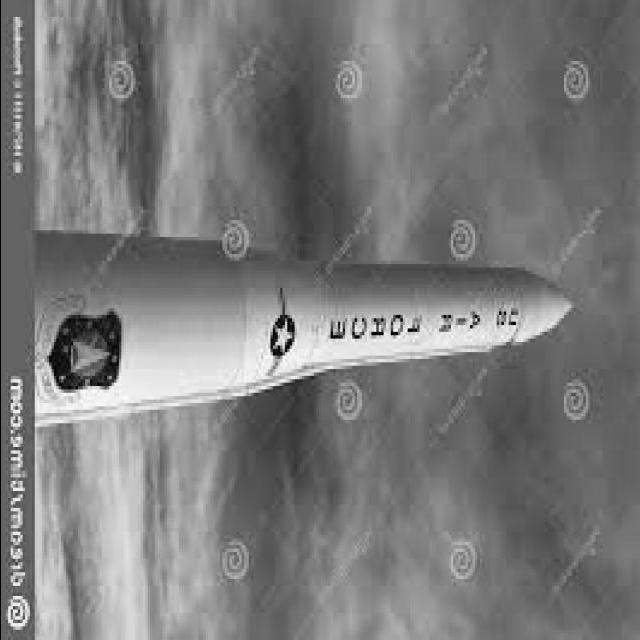Missile: (36, 214, 581, 446)
